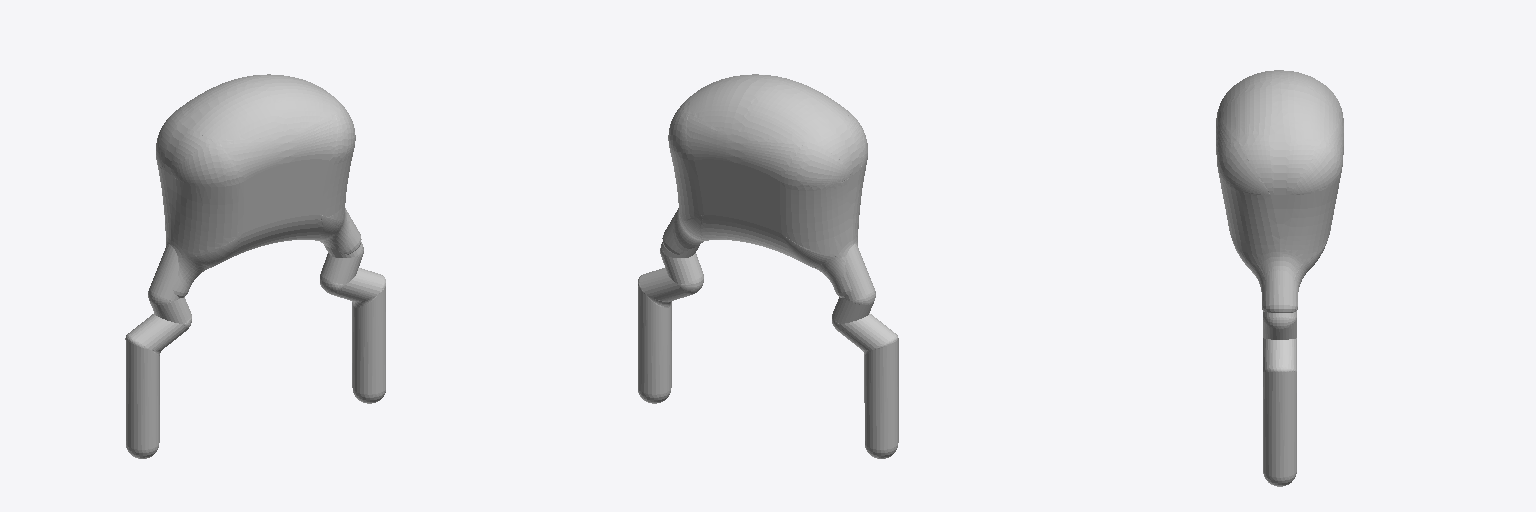
Rendered from Ceramic Capacitor.obj.
3 views of the same model, side by side, from view 1: azimuth 30°, elevation 25°; view 2: azimuth 150°, elevation 25°; view 3: azimuth 270°, elevation 25° (orthographic).
Visible parts, largest first — view 1: Solid3, Solid1, Solid2; view 2: Solid3, Solid1, Solid2; view 3: Solid3, Solid2.
Part boxes in pixels (left/top/right/bottom): Solid3: left=156, top=74, right=361, bottom=297; Solid1: left=125, top=244, right=191, bottom=458; Solid2: left=320, top=242, right=385, bottom=403; Solid3: left=662, top=74, right=867, bottom=297; Solid1: left=832, top=244, right=898, bottom=458; Solid2: left=638, top=242, right=703, bottom=403; Solid3: left=1216, top=70, right=1343, bottom=312; Solid2: left=1263, top=311, right=1296, bottom=486.
Size of the model in its own units: 5.65 by 7.3 by 2.46.